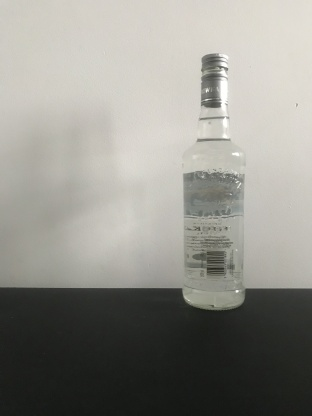nakretka: (199, 51, 230, 107)
